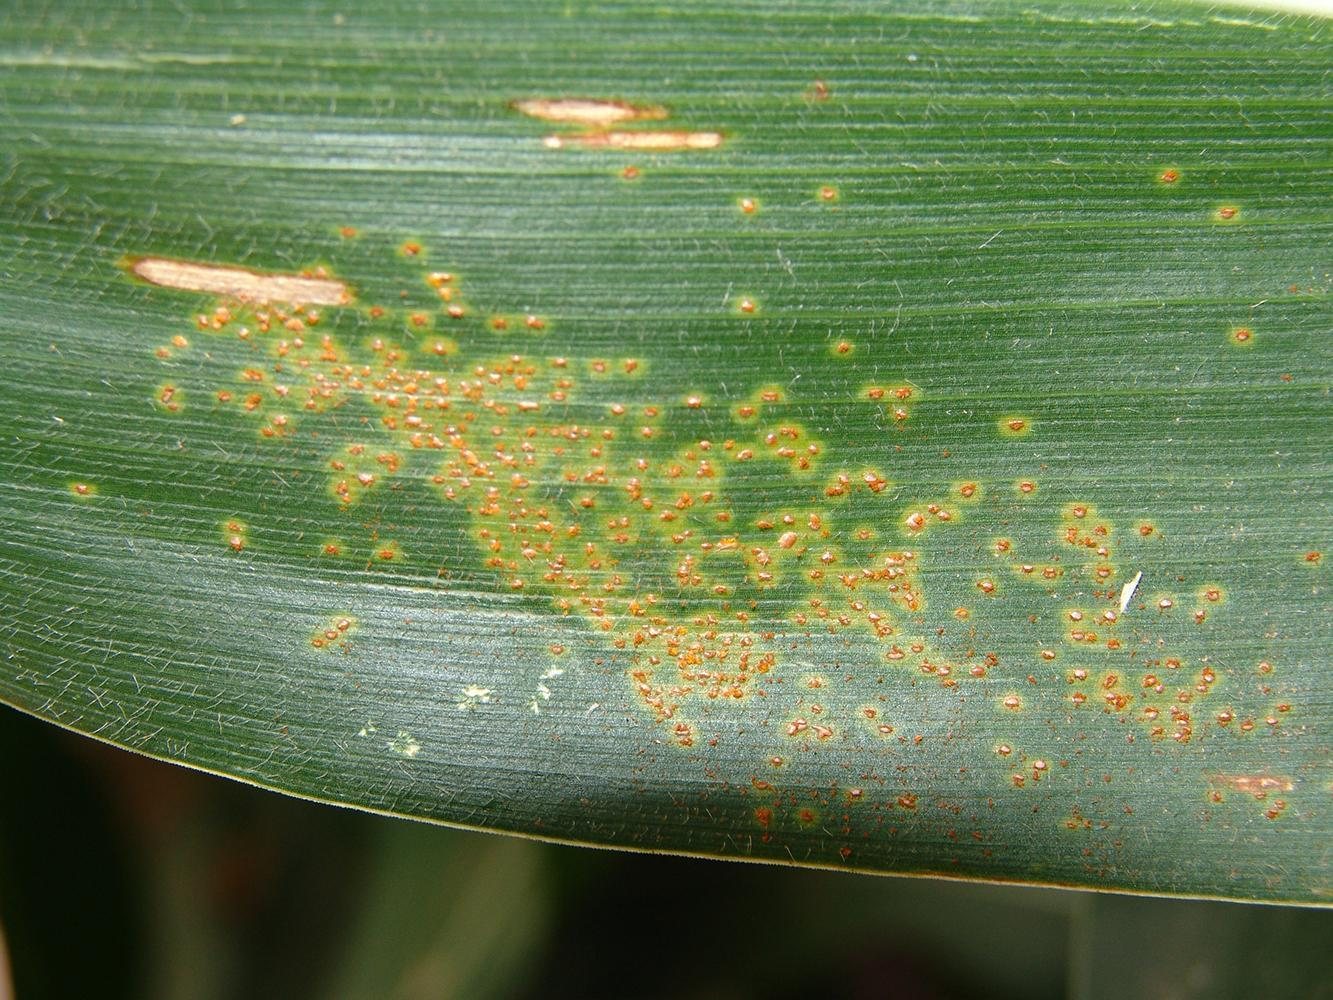Corn_Common_Rust: (463, 303, 1326, 897), (7, 211, 481, 739), (509, 64, 784, 231), (1139, 138, 1270, 236), (1234, 253, 1333, 364), (806, 70, 846, 142), (742, 273, 778, 337), (808, 178, 858, 207)
